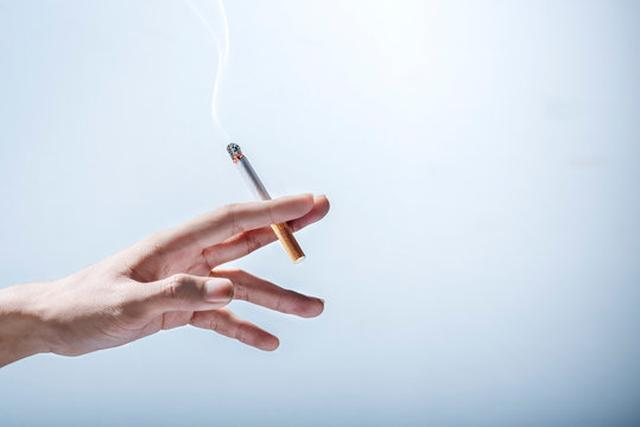Cigarette: (225, 141, 305, 263)
